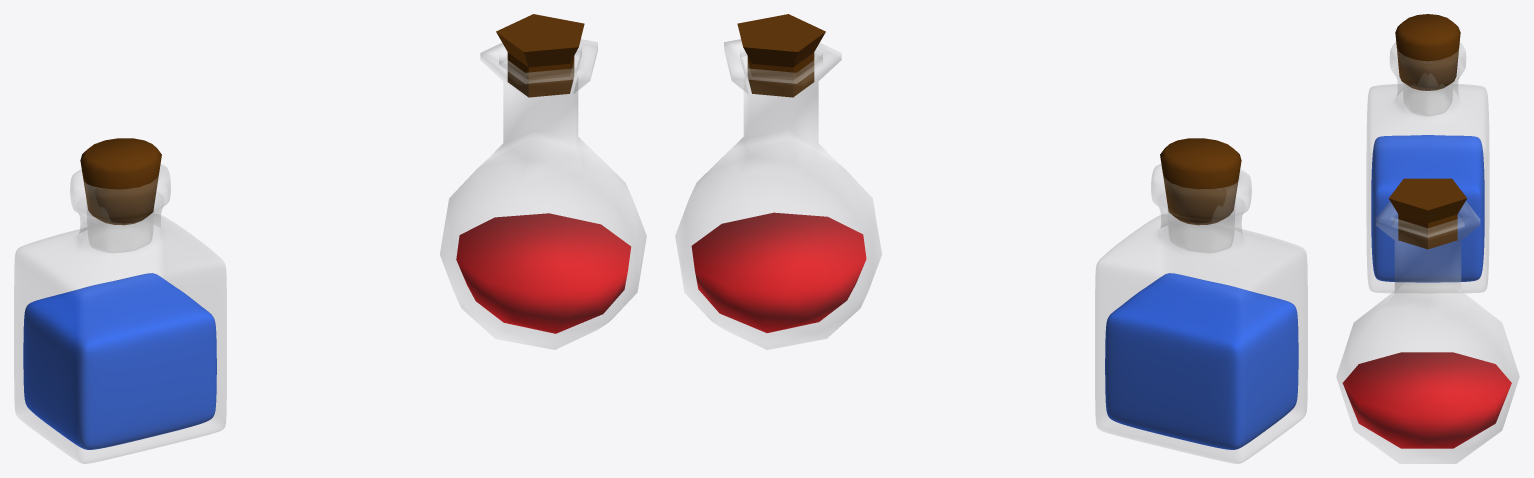
The model's file is potions.fbx.
3 renders of one model, left to right at view 1: azimuth 30°, elevation 25°; view 2: azimuth 150°, elevation 25°; view 3: azimuth 270°, elevation 25°, orthographic. The views are drawn at different scales.
Parts seen in each view (by area): view 1: Potion 2, Potion, Potion liquide 2, Potion liquide, Bouchon 2, Bouchon; view 2: Potion 2, Potion, Potion liquide 2, Potion liquide, Bouchon 2, Bouchon; view 3: Potion, Potion 2, Potion liquide, Potion liquide 2, Bouchon 2, Bouchon.
Boxes of the visible parts, x1,y1,x2,y2 form: Potion 2: (14,164,226,463); Potion: (440,39,646,349); Potion liquide 2: (23,273,216,449); Potion liquide: (456,213,631,333); Bouchon 2: (80,138,161,225); Bouchon: (496,14,584,97); Potion 2: (1095,164,1307,463); Potion: (675,39,881,349); Potion liquide 2: (1105,273,1298,449); Potion liquide: (691,212,866,332); Bouchon 2: (1160,138,1241,225); Bouchon: (737,14,825,97); Potion: (1336,201,1519,463); Potion 2: (1366,42,1489,293); Potion liquide: (1342,352,1511,448); Potion liquide 2: (1371,135,1484,282); Bouchon 2: (1395,14,1460,90); Bouchon: (1388,178,1467,249).
Bounding box in the file's own units: 292 × 146 × 91.36.
